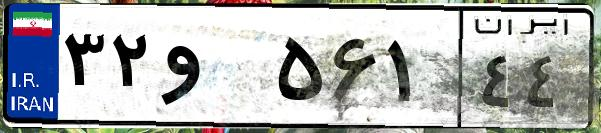1: (385, 28, 445, 110)
2: (110, 28, 158, 98)
3: (57, 26, 110, 100)
4: (475, 38, 525, 113), (525, 38, 570, 115)
5: (270, 28, 330, 110)
6: (330, 28, 385, 110)
و: (158, 20, 270, 120)
